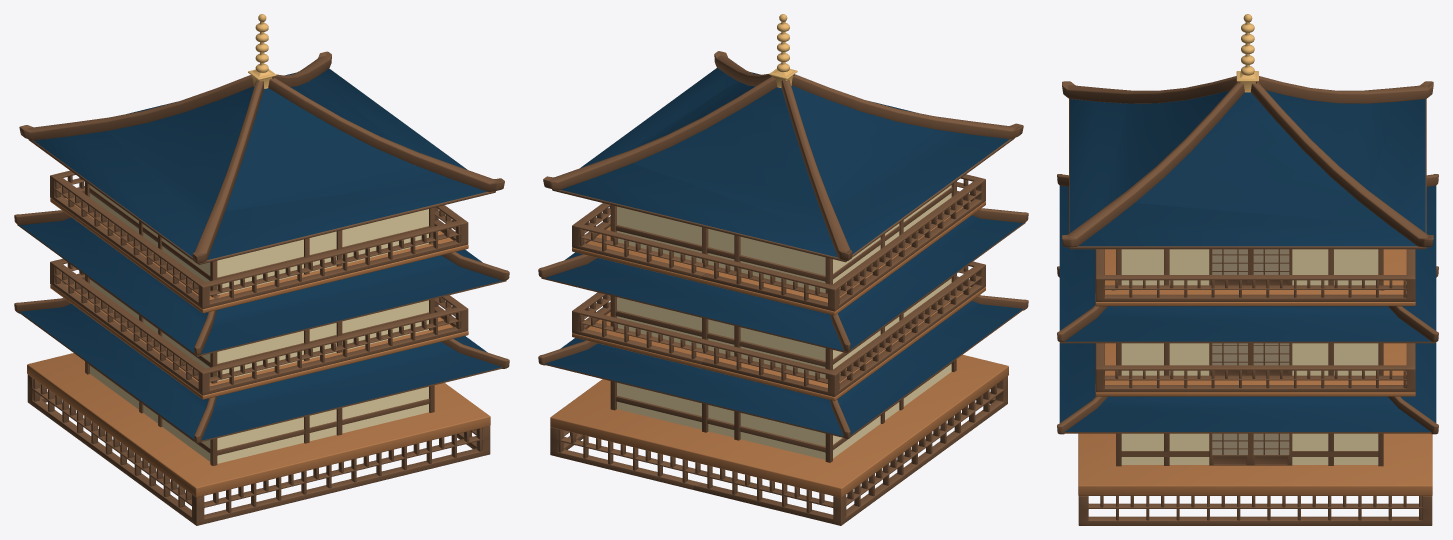
The model's file is Temple.fbx.
3 views of the same model, side by side, from view 1: azimuth 30°, elevation 25°; view 2: azimuth 150°, elevation 25°; view 3: azimuth 270°, elevation 25° (orthographic). The views are drawn at different scales.
Parts seen in each view (by area): view 1: Temple; view 2: Temple; view 3: Temple.
Boxes of the visible parts, bbox=[...] form: Temple: bbox=[14, 14, 509, 525]; Temple: bbox=[538, 14, 1028, 525]; Temple: bbox=[1057, 14, 1438, 525].
Size of the model in its own units: 13512 by 17156 by 13602.
